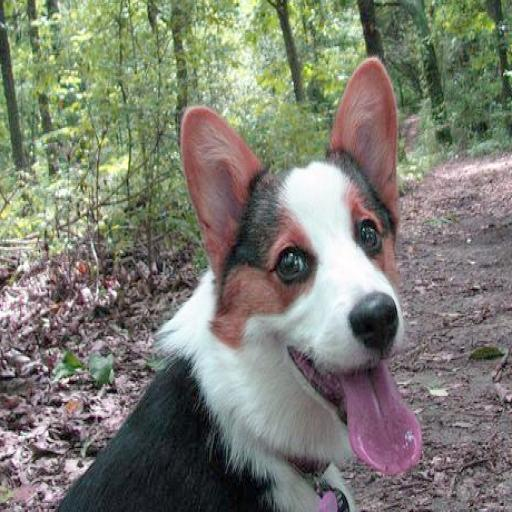dog_face: (181, 54, 424, 455)
